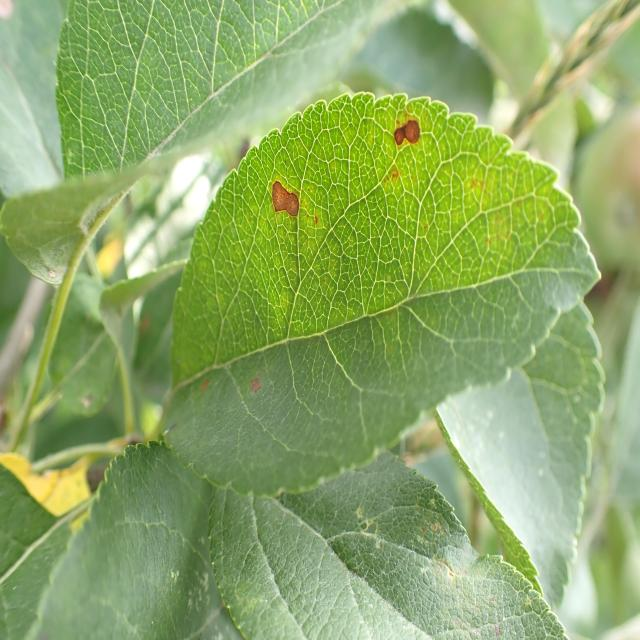Black Rot: (375, 98, 427, 197), (255, 154, 306, 230), (234, 368, 268, 419)
